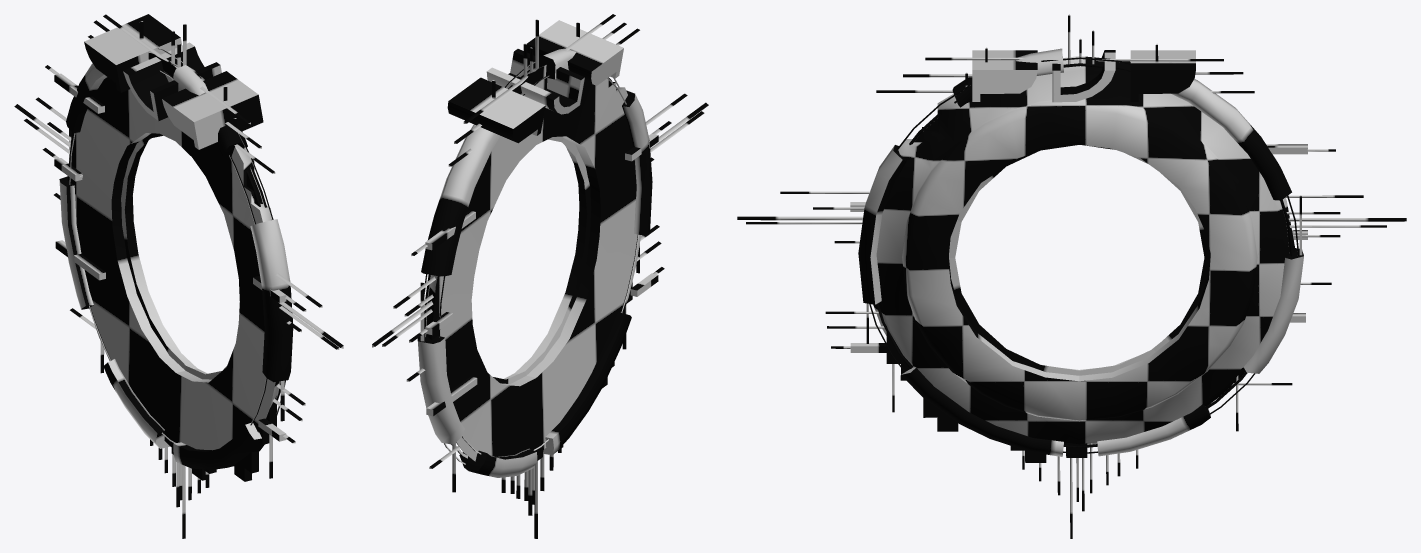
Rendered from eventgate_pvp2.obj.
3 renders of one model, left to right at view 1: azimuth 30°, elevation 25°; view 2: azimuth 150°, elevation 25°; view 3: azimuth 270°, elevation 25°, orthographic.
Parts seen in each view (by area): view 1: eventgate_pvp2; view 2: eventgate_pvp2; view 3: eventgate_pvp2.
Part boxes in pixels (<box>): eventgate_pvp2: <box>14,14,343,538</box>; eventgate_pvp2: <box>372,14,708,538</box>; eventgate_pvp2: <box>737,14,1406,538</box>.
Bounding box in the file's own units: 65.67 × 452 × 523.
1 material, 1 textured.
